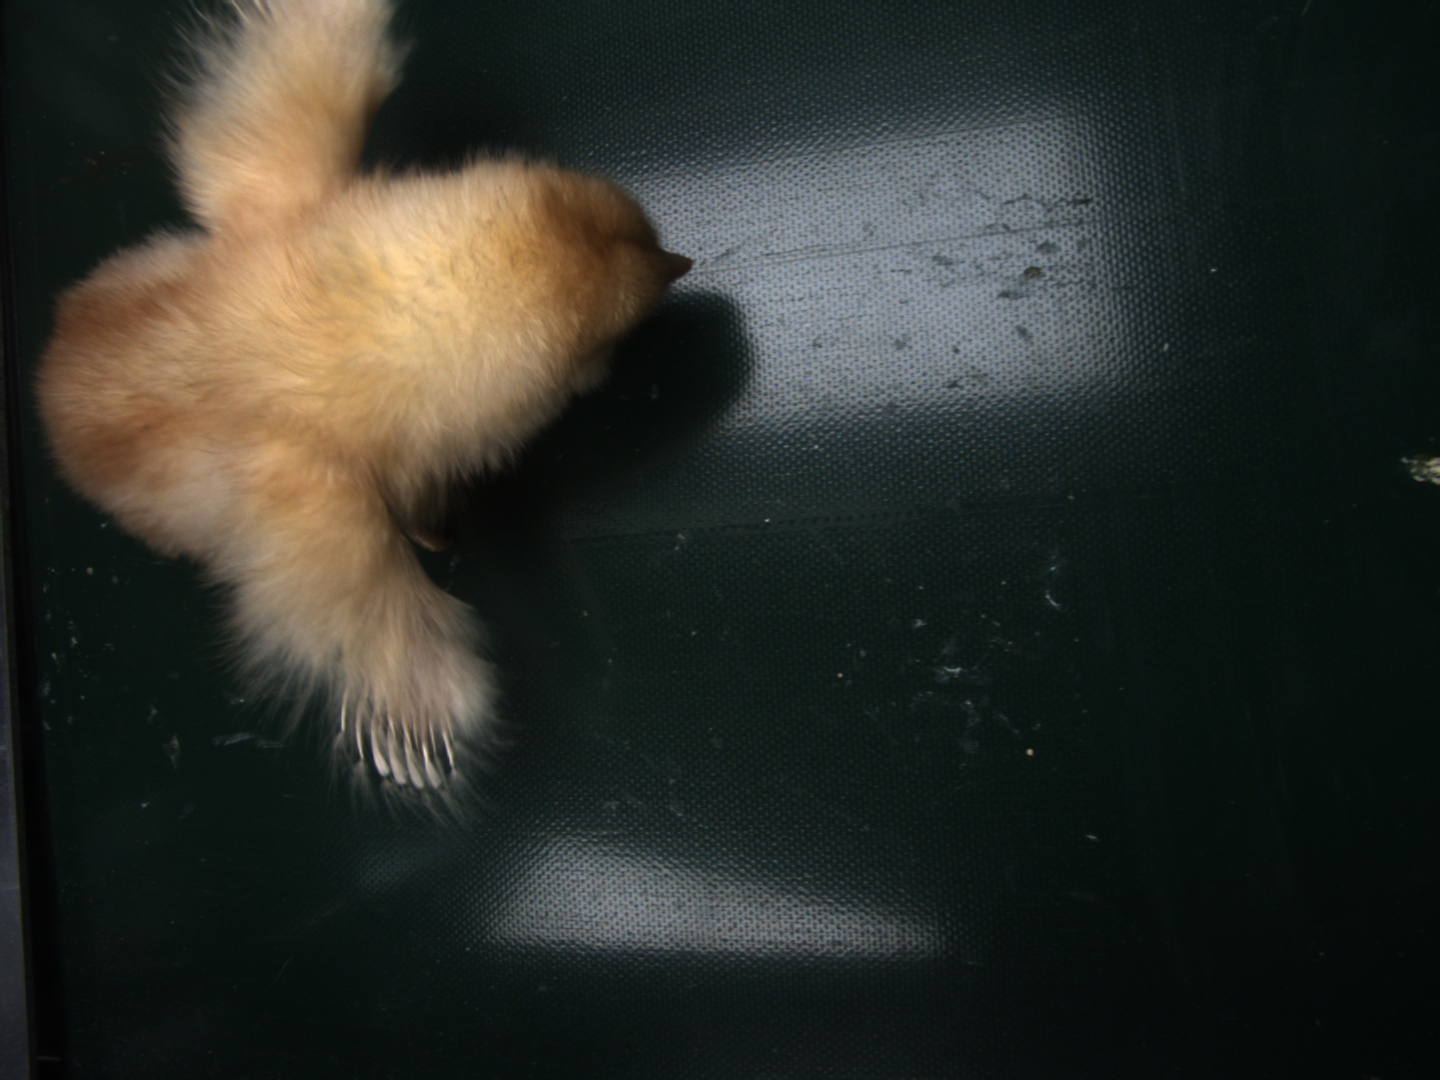female: (338, 673, 461, 788)
